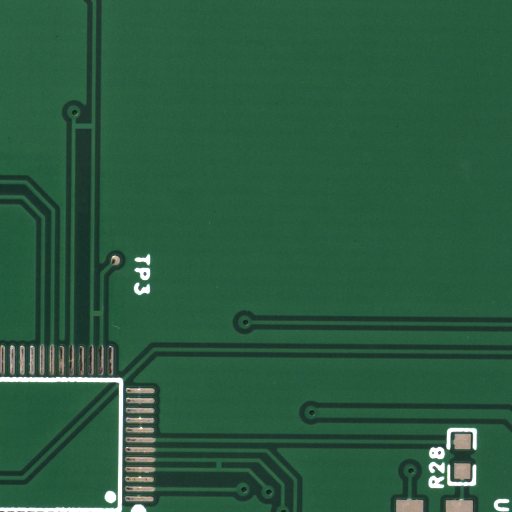Short: (83, 126, 104, 137), (96, 313, 106, 326), (218, 465, 229, 476)
